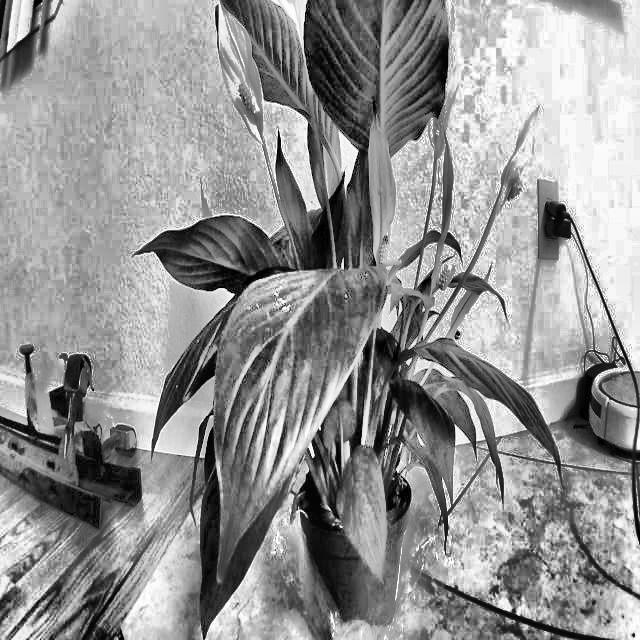plants: (153, 2, 503, 618)
